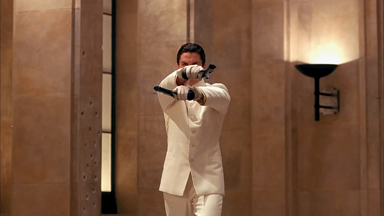firearm: (151, 83, 196, 101), (181, 63, 217, 80)
